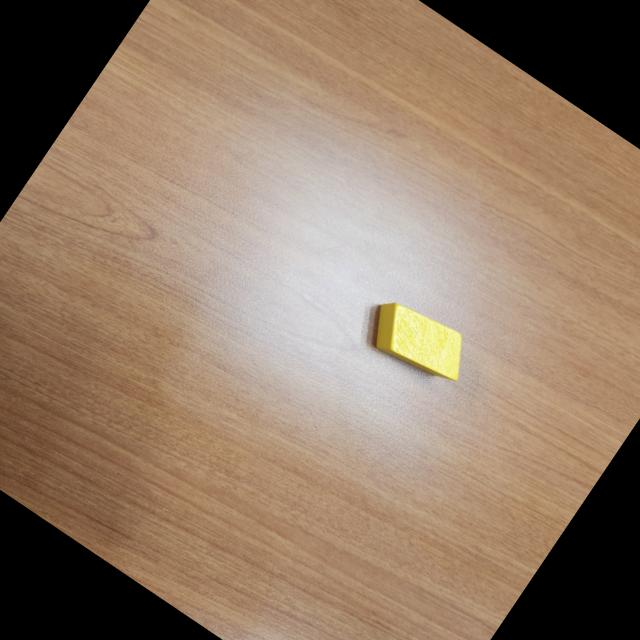yellow: (356, 287, 480, 398)
